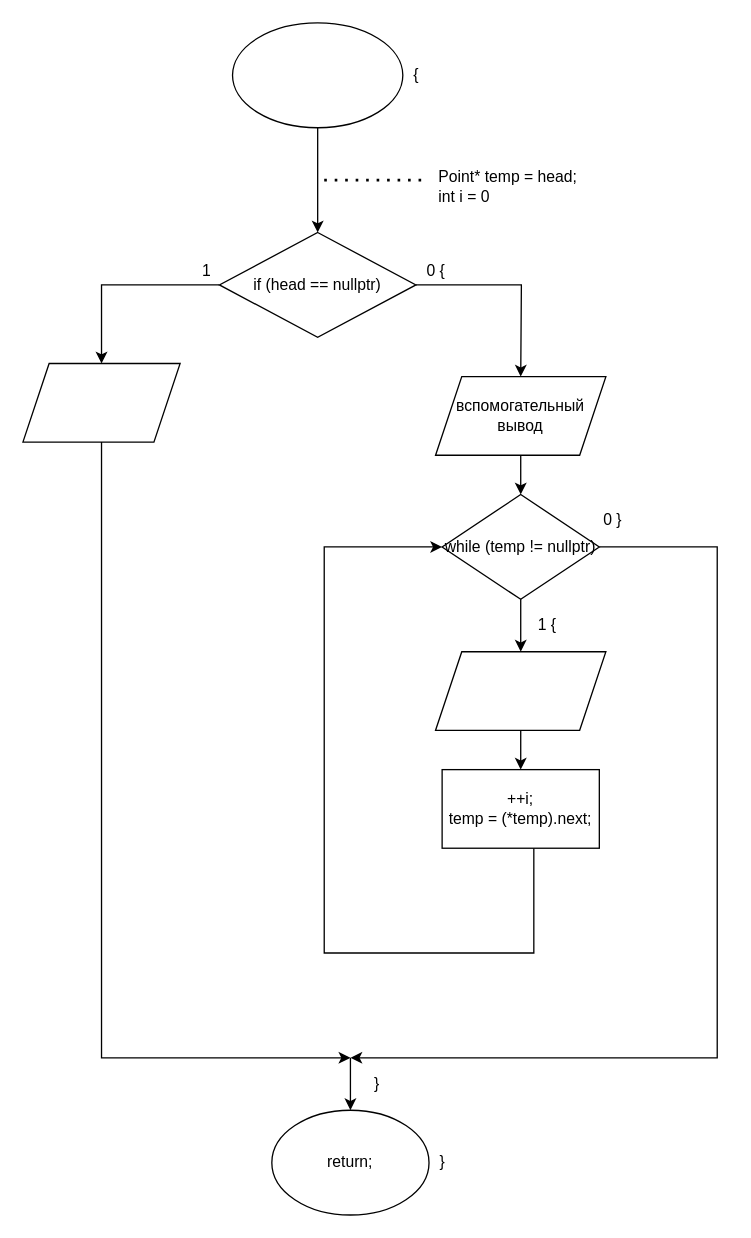
The diagram is 751 pixels wide and 1238 high, and some of its shapes have lost their labels. The centre of each missing label's shape, as x and y in pixels:
cout << "Список пуст!" << endl;: the point at 101,402
cout << i << " " << (*temp).data << endl;: the point at 520,690
void show_list(): the point at 317,75
